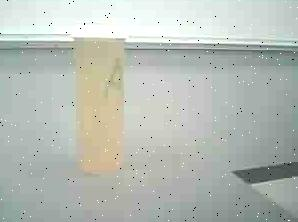Bottle A: (68, 19, 138, 186)
